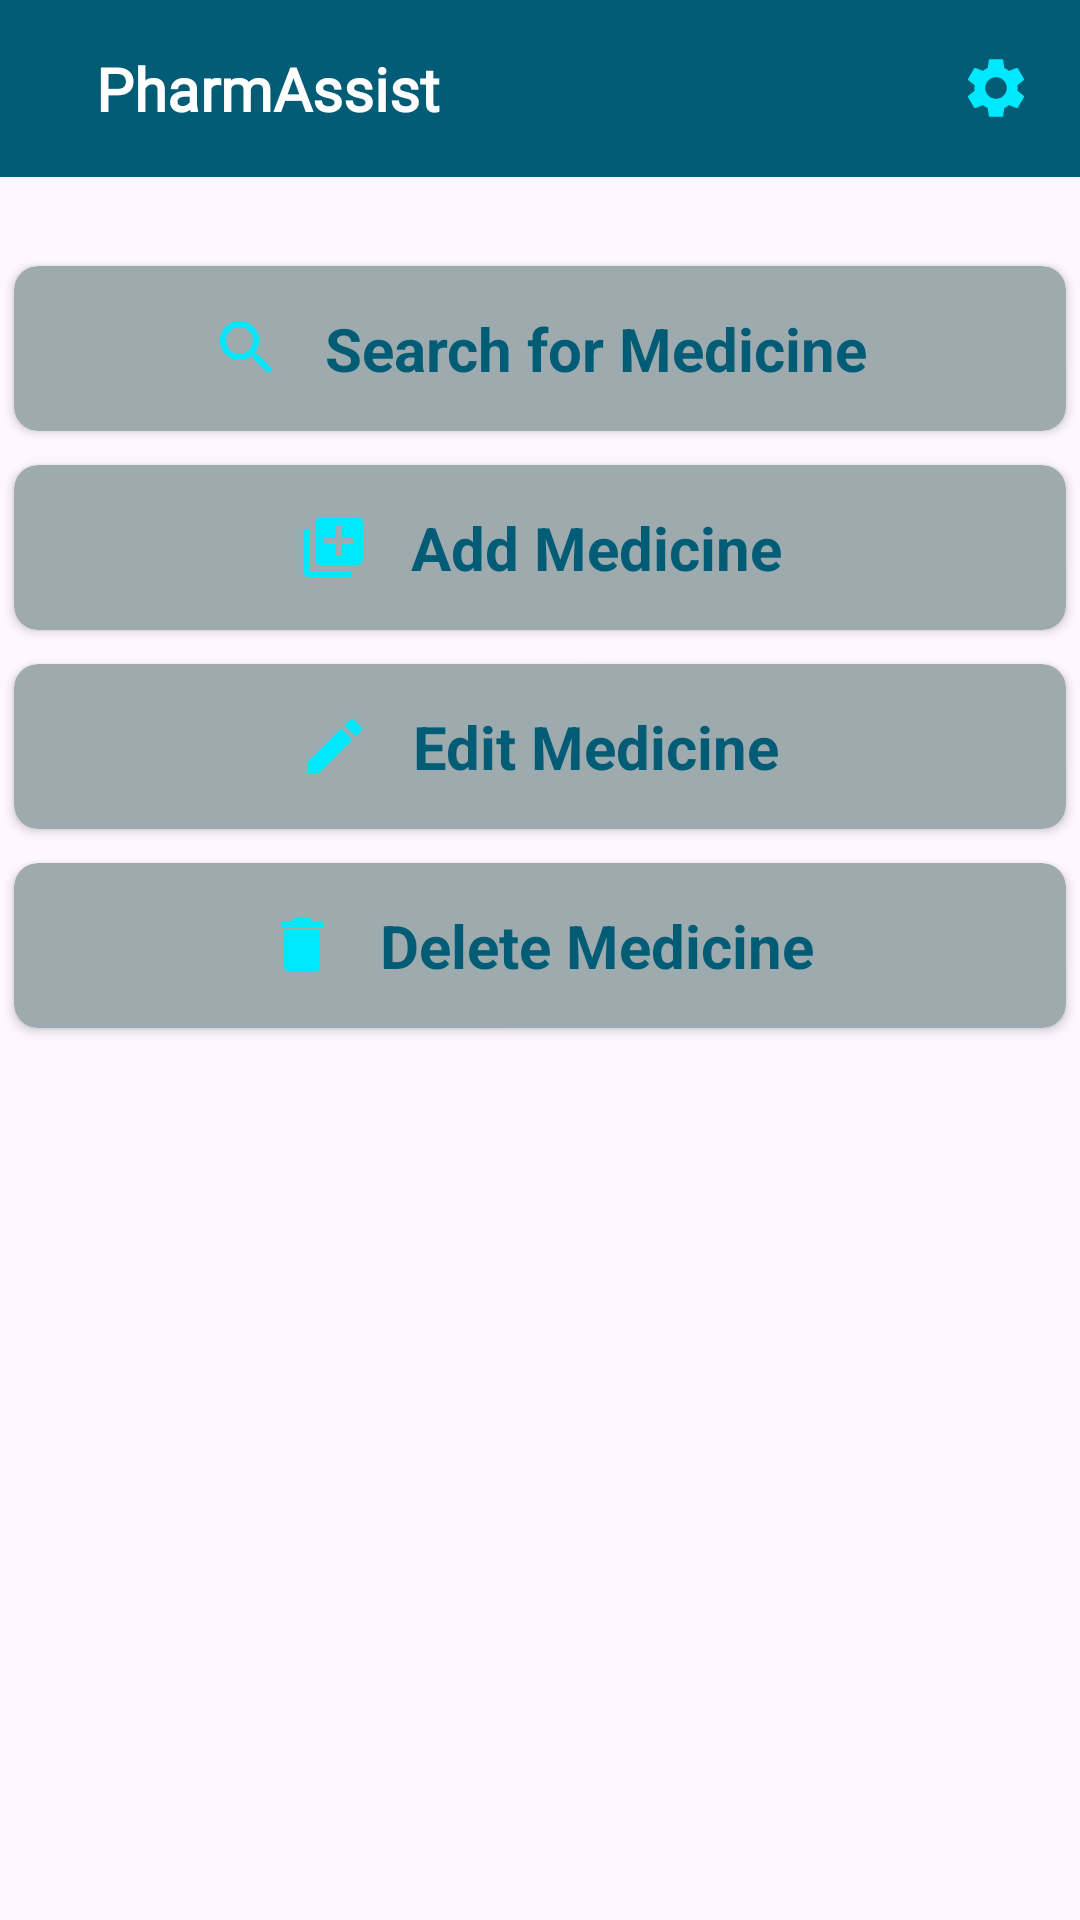

Screen size 1080 x 1920. Icon name, then its center in pixels as (x,y):
add to photos: (333,547)
settings: (996,88)
